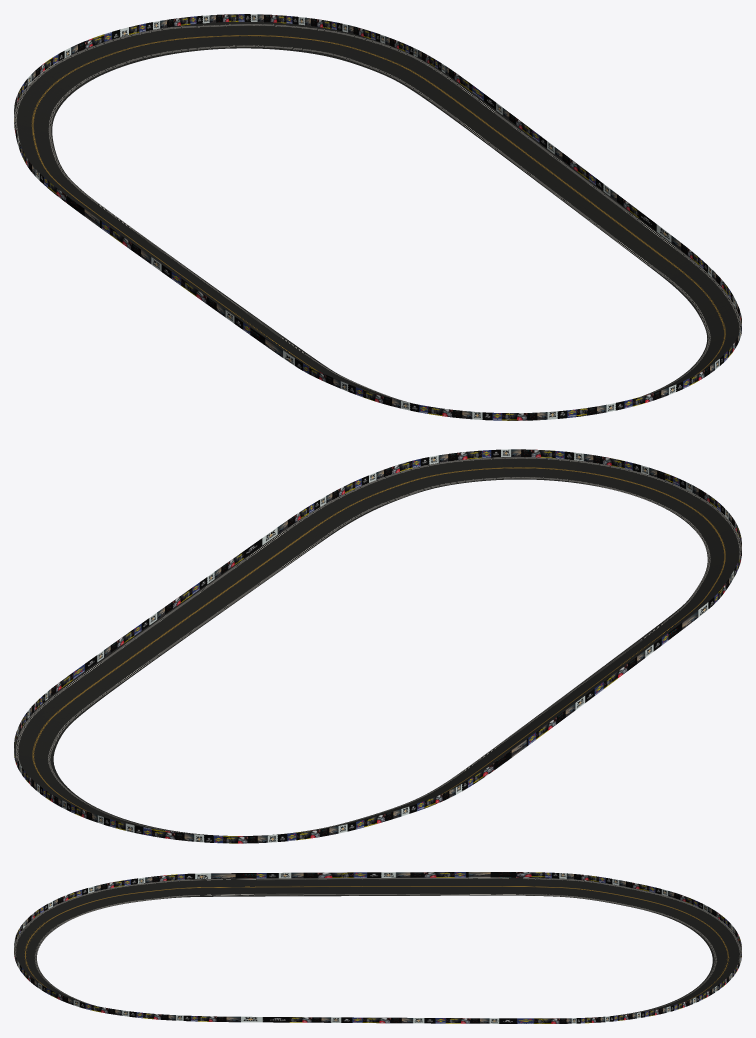
File: road_propertionbarrier.glb
3 views of the same model, one above another, from view 1: azimuth 30°, elevation 25°; view 2: azimuth 150°, elevation 25°; view 3: azimuth 270°, elevation 25° (orthographic). The views are drawn at different scales.
Visible parts, largest first — view 1: Circle.001, Circle.002; view 2: Circle.001, Circle.002; view 3: Circle.001, Circle.002.
Part boxes in pixels (x1=…): Circle.001: x1=14, y1=21, x2=741, y2=403; Circle.002: x1=14, y1=14, x2=741, y2=420; Circle.001: x1=14, y1=457, x2=741, y2=835; Circle.002: x1=14, y1=449, x2=741, y2=843; Circle.001: x1=14, y1=877, x2=741, y2=1015; Circle.002: x1=14, y1=872, x2=741, y2=1023.
Size of the model in its own units: 224 by 8.6 by 470.
Materials: 2 (2 with a texture image).
